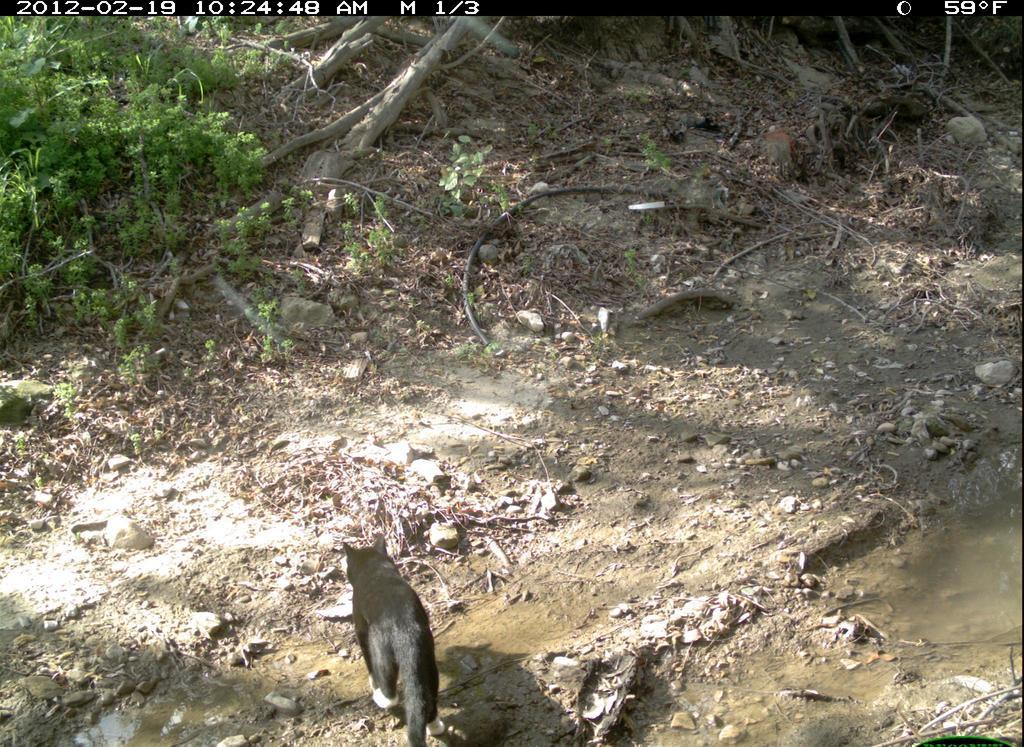cat: (233, 481, 571, 747)
